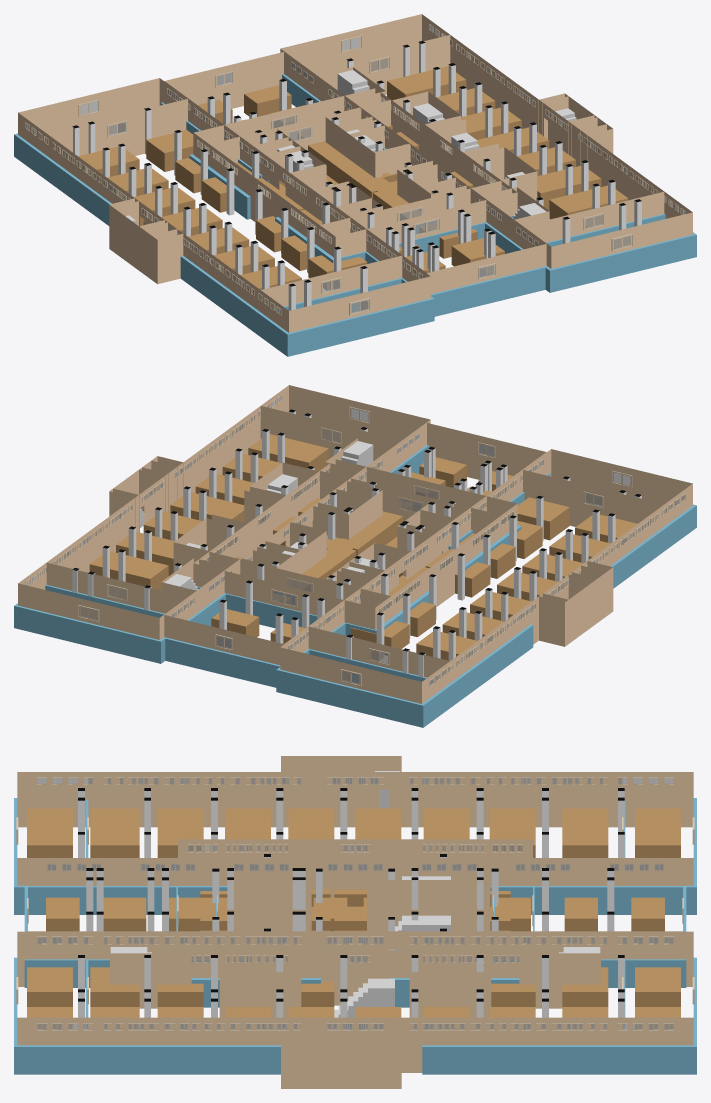
File: can.glb
The picture shows the model from 3 angles, top to bottom: view 1: azimuth 30°, elevation 25°; view 2: azimuth 150°, elevation 25°; view 3: azimuth 270°, elevation 25°; orthographic projection. The views are drawn at different scales.
Visible parts, largest first — view 1: wall.003, wall.006, wall2, wall.002, wall, wall.005, wall.004, wall.007, pillar.004, pillar.005, wall2.005, wall2.004 (+37 smaller); view 2: wall.003, wall.006, wall.002, wall2, wall, wall.007, pillar.004, wall.004, wall.005, wall2.005, pillar.005, wall2.004 (+37 smaller); view 3: wall.003, wall2, wall, wall.006, wall.005, wall.002, wall.004, wall2.005, pillar.005, wall.007, Material2.008, Material2.010 (+55 smaller).
Boxes of the visible parts, x1,y1,x2,y2 form: wall.003: (18,14,692,332); wall.006: (46,35,664,311); wall2: (14,74,696,356); wall.002: (193,88,537,257); wall: (164,52,549,294); wall.005: (109,93,613,284); wall.004: (209,100,501,243); wall.007: (113,96,606,274); pillar.004: (72,41,641,310); pillar.005: (102,63,615,289); wall2.005: (43,91,665,335); wall2.004: (160,102,547,316); wall.003: (18,385,692,703); wall.006: (46,406,664,682); wall.002: (173,459,517,629); wall2: (14,445,696,727); wall: (161,423,546,665); wall.007: (113,460,606,643); pillar.004: (72,409,641,677); wall.004: (209,471,501,616); wall.005: (109,456,613,646); wall2.005: (45,462,632,706); pillar.005: (103,429,615,658); wall2.004: (163,473,550,687); wall.003: (17,772,693,1072); wall2: (14,798,696,1074); wall: (28,858,682,1008); wall.006: (88,772,622,1072); wall.005: (227,756,490,1088); wall.002: (178,839,532,1017); wall.004: (217,839,493,1005); wall2.005: (85,799,625,1074); pillar.005: (144,788,548,1017); wall.007: (254,756,461,1088); Material2.008: (16,777,694,1030); Material2.010: (87,777,623,1030).
Size of what is drawn, in the model's own units: 58.96 by 5.5 by 61.34.
